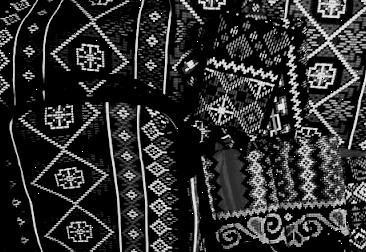malong: (2, 104, 184, 252), (203, 0, 366, 148), (0, 0, 188, 97), (198, 146, 366, 252)
